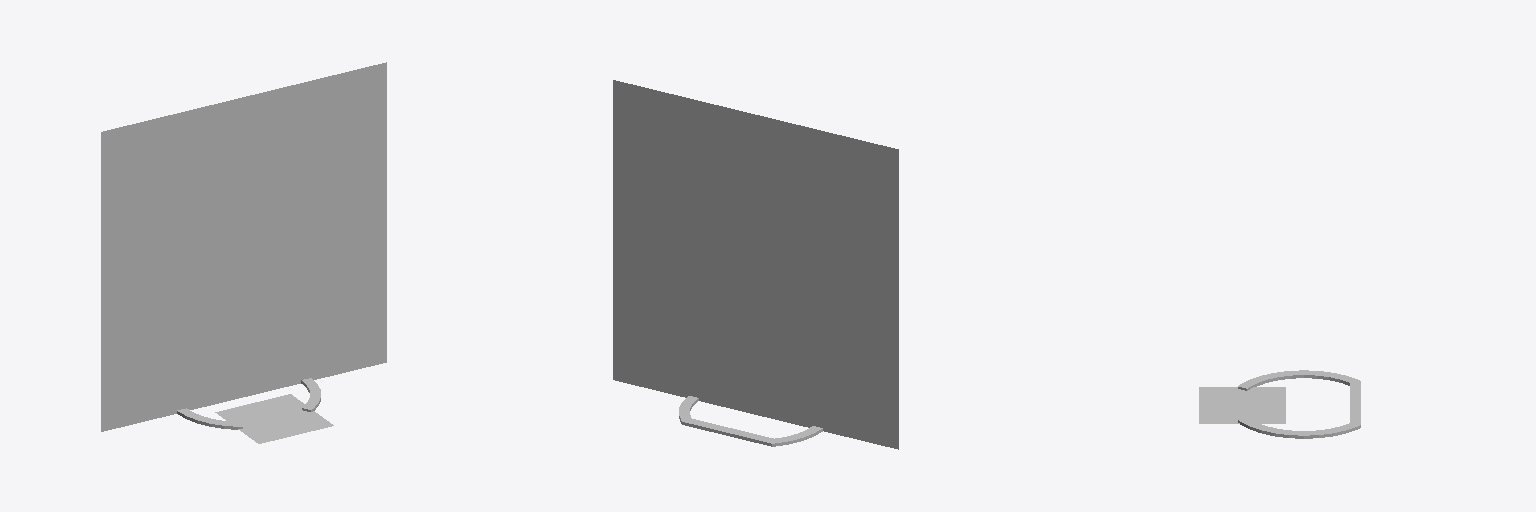
3 renders of one model, left to right at view 1: azimuth 30°, elevation 25°; view 2: azimuth 150°, elevation 25°; view 3: azimuth 270°, elevation 25°, orthographic.
Visible parts, largest first — view 1: 0FRONT_Plane.002, 1BACK_Plane.004, 0BASE_ICON_Cylinder.005, Cylinder; view 2: 1BACK_Plane.004, 0FRONT_Plane.002, Cylinder; view 3: 0BASE_ICON_Cylinder.005, Cylinder.
Part boxes in pixels (x1,y1,x2,y2): 0FRONT_Plane.002: (101, 62, 386, 399); 1BACK_Plane.004: (101, 125, 264, 431); 0BASE_ICON_Cylinder.005: (215, 394, 333, 443); Cylinder: (177, 378, 320, 429); 1BACK_Plane.004: (613, 80, 898, 418); 0FRONT_Plane.002: (749, 141, 898, 449); Cylinder: (679, 396, 822, 446); 0BASE_ICON_Cylinder.005: (1199, 387, 1285, 423); Cylinder: (1238, 370, 1360, 438).
Size of the model in its own units: 3 by 3 by 1.47.